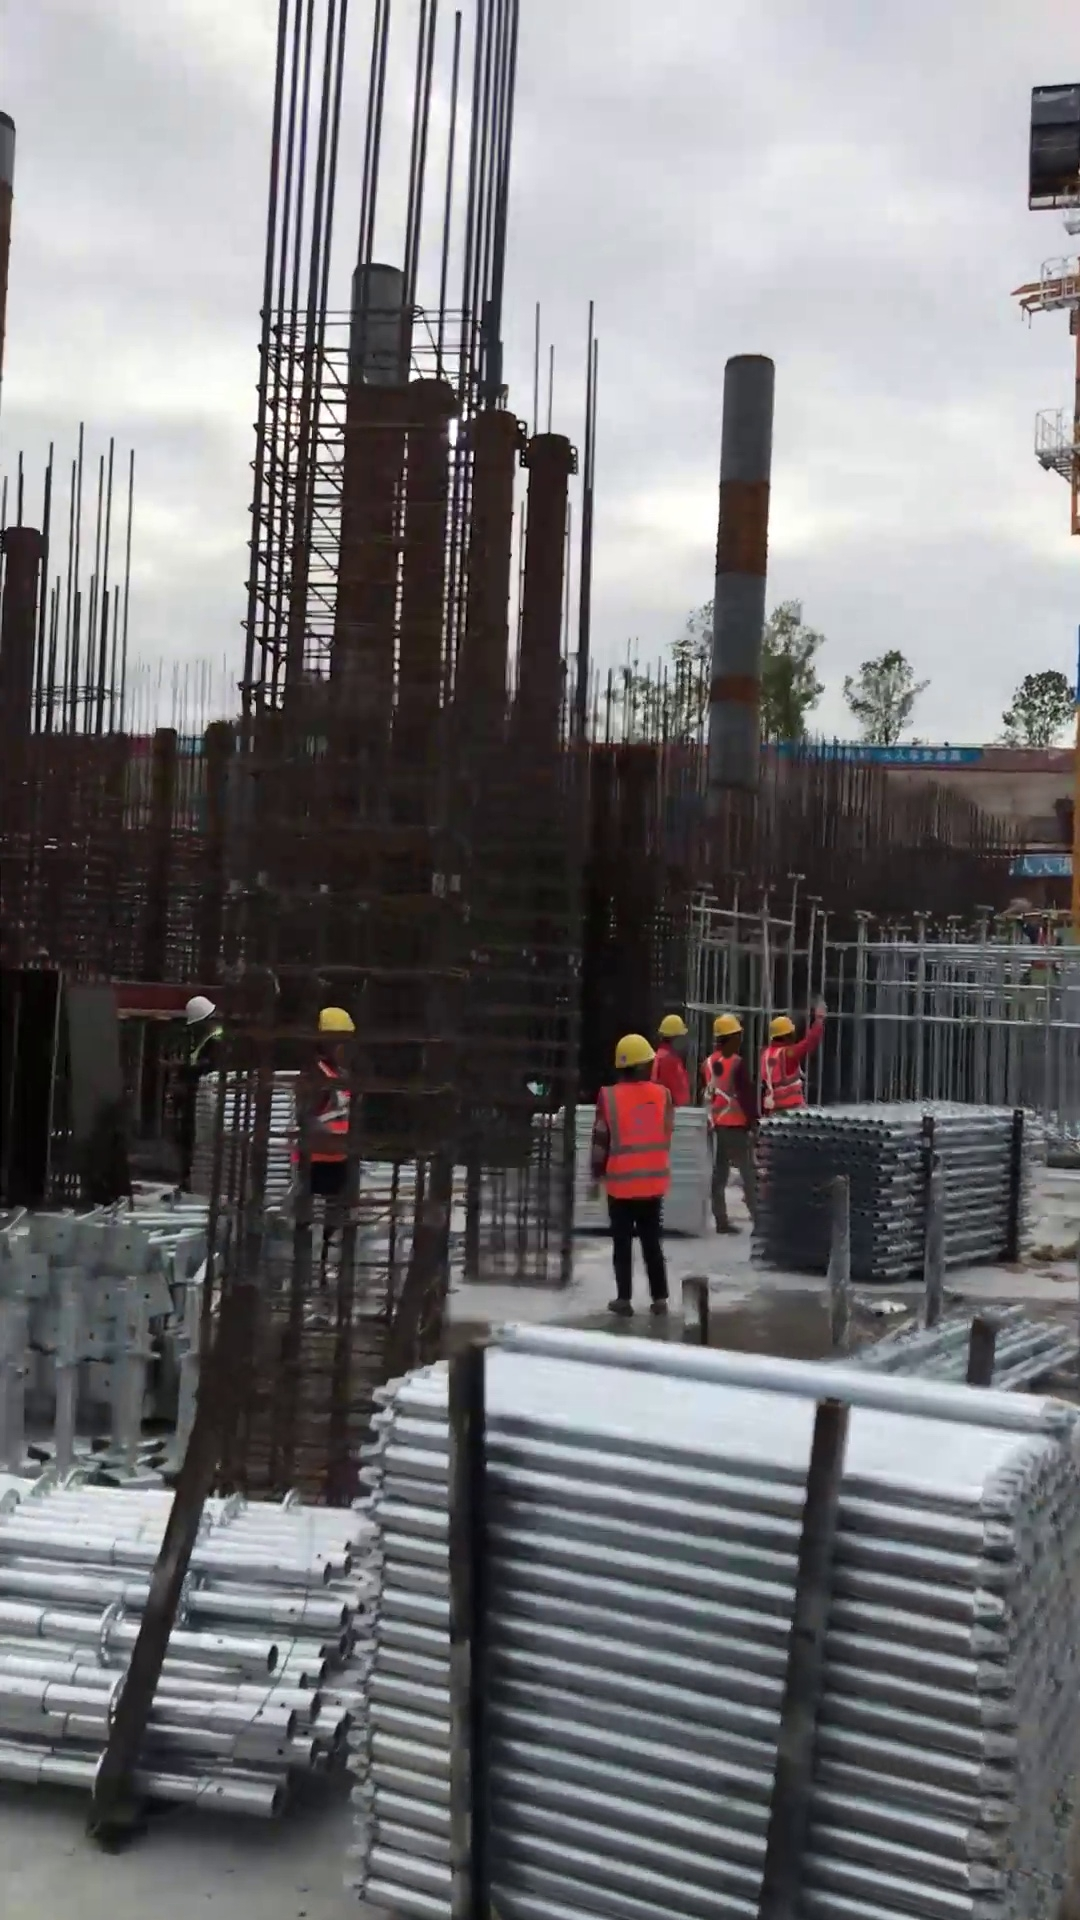helmet: (610, 1032, 657, 1069), (180, 991, 216, 1026), (315, 1004, 354, 1037), (710, 1011, 743, 1042), (654, 1011, 689, 1041), (765, 1011, 794, 1043)
person: (585, 1027, 680, 1316), (289, 1001, 362, 1236), (695, 1009, 766, 1237), (757, 996, 831, 1117), (180, 991, 237, 1098), (649, 1011, 695, 1110)
vest: (594, 1077, 674, 1202), (291, 1053, 357, 1166), (697, 1044, 754, 1131), (757, 1038, 806, 1113), (652, 1041, 689, 1111), (185, 1028, 227, 1078), (1032, 923, 1058, 970)
